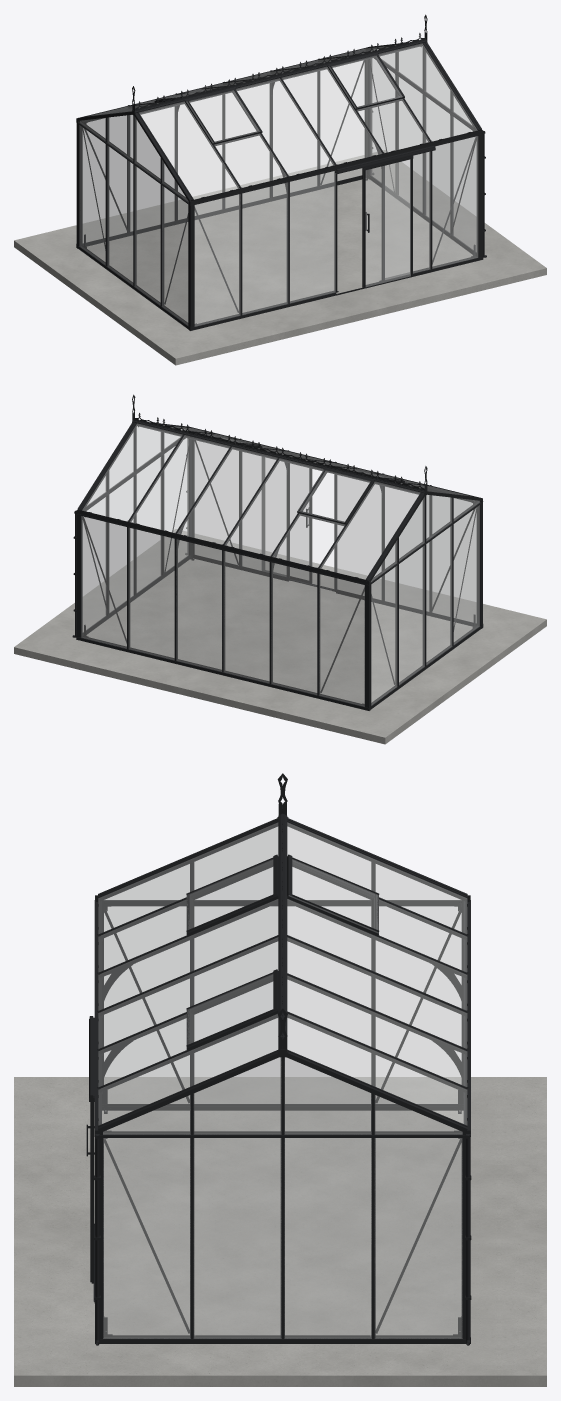
The model's file is scandiglas-classic-decor-sv.glb.
The picture shows the model from 3 angles, top to bottom: view 1: azimuth 30°, elevation 25°; view 2: azimuth 150°, elevation 25°; view 3: azimuth 270°, elevation 25°; orthographic projection. The views are drawn at different scales.
Visible parts, largest first — view 1: scandiglas-classic-decor; view 2: scandiglas-classic-decor; view 3: scandiglas-classic-decor.
Boxes of the visible parts, x1,y1,x2,y2 form: scandiglas-classic-decor: (14,14,546,365); scandiglas-classic-decor: (14,394,546,744); scandiglas-classic-decor: (14,773,546,1386).
Size of the model in its own units: 5.83 by 3.16 by 4.4.
Materials: 4 (1 with a texture image).
